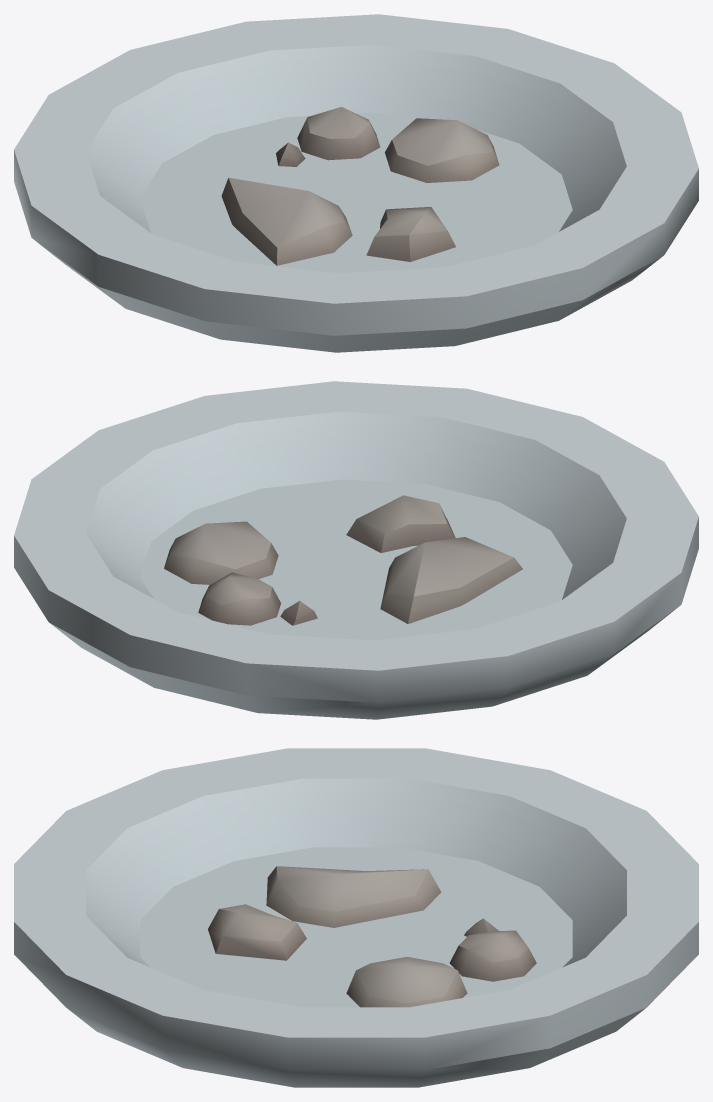
Rendered from Dirty Plate.glb.
3 renders of one model, top to bottom at view 1: azimuth 30°, elevation 25°; view 2: azimuth 150°, elevation 25°; view 3: azimuth 270°, elevation 25°, orthographic.
Visible parts, largest first — view 1: plate_dirty; view 2: plate_dirty; view 3: plate_dirty.
Boxes of the visible parts, x1,y1,x2,y2 form: plate_dirty: (14, 14, 698, 352); plate_dirty: (14, 381, 698, 719); plate_dirty: (14, 748, 698, 1087).
Bounding box in the file's own units: 0.95 × 0.1 × 0.95.
1 material, 1 textured.
